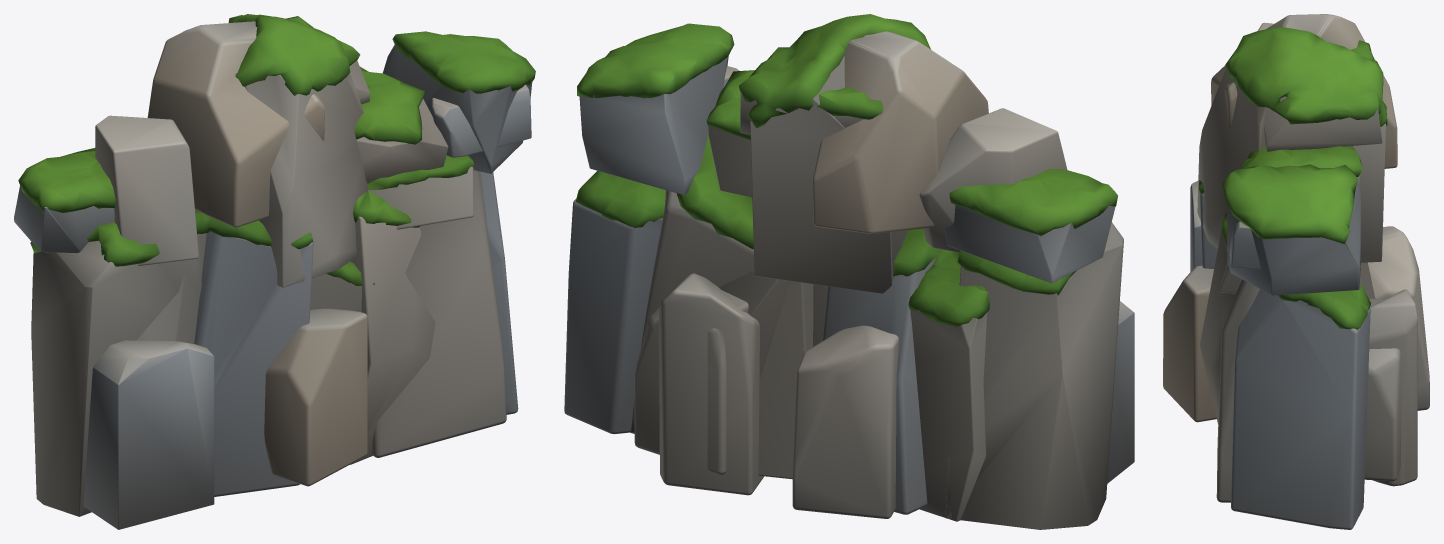
The model's file is glade_bluff_ridge_lod1.glb.
The picture shows the model from 3 angles, left to right: view 1: azimuth 30°, elevation 25°; view 2: azimuth 150°, elevation 25°; view 3: azimuth 270°, elevation 25°; orthographic projection. The views are drawn at different scales.
Parts seen in each view (by area): view 1: glade_bluff_ridge.001, moss.001; view 2: glade_bluff_ridge.001, moss.001; view 3: glade_bluff_ridge.001, moss.001.
Boxes of the visible parts, left/top/right/bottom form: glade_bluff_ridge.001: left=14, top=21, right=532, bottom=529; moss.001: left=18, top=14, right=535, bottom=285; glade_bluff_ridge.001: left=564, top=31, right=1134, bottom=529; moss.001: left=576, top=14, right=1117, bottom=326; glade_bluff_ridge.001: left=1163, top=14, right=1429, bottom=529; moss.001: left=1199, top=26, right=1387, bottom=329.
Size of the model in its own units: 31.73 by 26.37 by 16.13.
